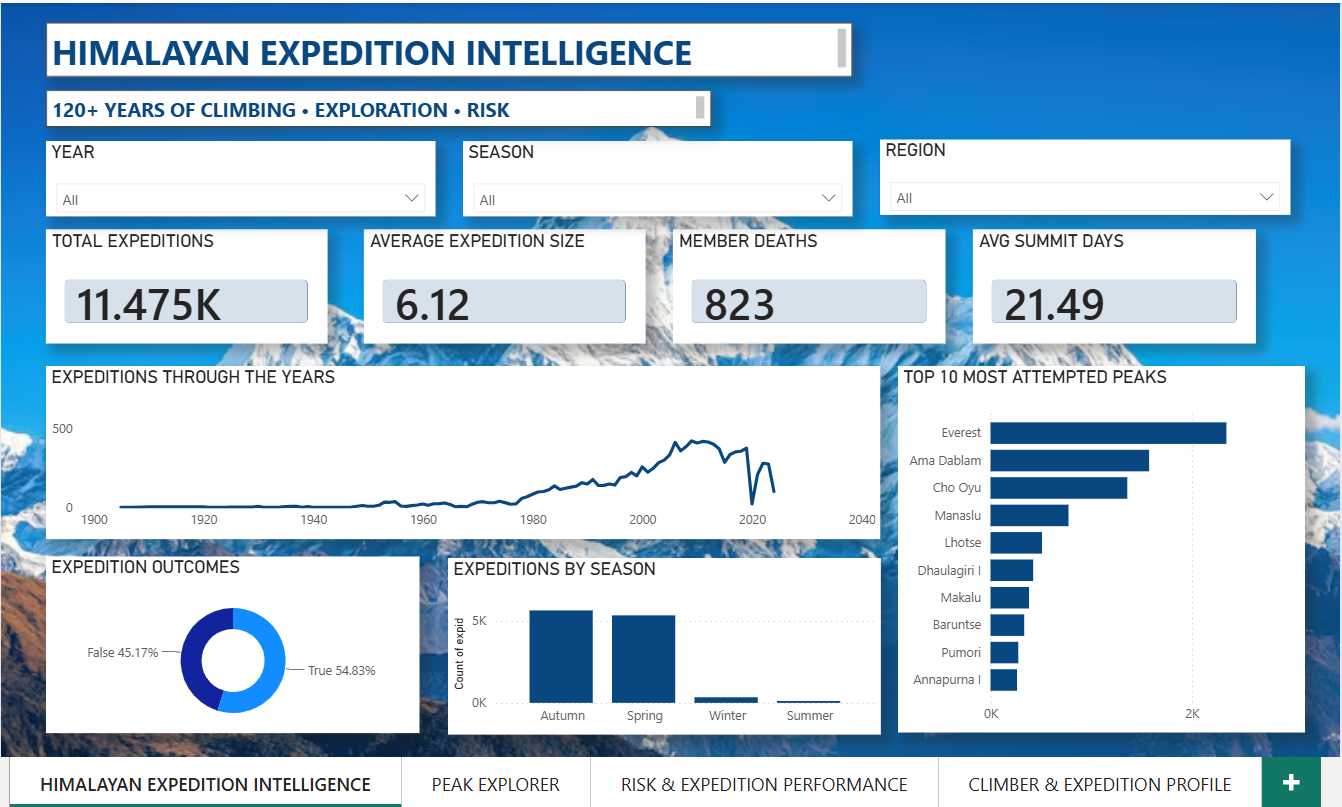

What the dashboard file says about the page in this screenshot:
{"tool":"powerbi","page":{"name":"HIMALAYAN EXPEDITION INTELLIGENCE","canvas":[1280,720],"ordinal":0},"visuals":[{"type":"cardVisual","title":"TOTAL EXPEDITIONS","fields":{"Data":["Count(exped.expid)"]},"box":[43.3,216.7,268.3,108.3],"z":0},{"type":"cardVisual","title":"AVERAGE EXPEDITION SIZE","fields":{"Data":["Avg(exped.totmembers)"]},"box":[346.7,216.7,268.3,108.3],"z":1000},{"type":"cardVisual","title":"MEMBER DEATHS","fields":{"Data":["Sum(exped.mdeaths)"]},"box":[641.7,216.7,260,108.3],"z":2000},{"type":"cardVisual","title":"AVG SUMMIT DAYS","fields":{"Data":["Avg(exped.smtdays)"]},"box":[928.3,216.7,270,108.3],"z":3000},{"type":"lineChart","title":"EXPEDITIONS THROUGH THE YEARS","fields":{"Category":["exped.year"],"Y":["Count(exped.expid)"]},"box":[43.3,346.7,796.7,165],"z":4000},{"type":"clusteredColumnChart","title":"EXPEDITIONS BY SEASON","fields":{"Category":["exped.season"],"Y":["CountNonNull(exped.expid)"]},"box":[426.7,530,413.3,168.3],"z":5000},{"type":"donutChart","title":"EXPEDITION OUTCOMES","fields":{"Category":["exped.success1"],"Y":["Count(exped.expid)"]},"box":[43.3,528.3,356.7,168.3],"z":6000},{"type":"clusteredBarChart","title":"TOP 10 MOST ATTEMPTED PEAKS","fields":{"Category":["peaks.pkname"],"Y":["Count(exped.expid)"]},"box":[856.7,346.7,388.3,350],"z":7000},{"type":"slicer","title":"SEASON","fields":{"Values":["exped.season"]},"box":[441.7,131.7,371.7,71.7],"z":8000},{"type":"slicer","title":"REGION","fields":{"Values":["peaks.region"]},"box":[840,130,391.7,71.7],"z":9000},{"type":"textbox","box":[43.3,18.3,770,51.7],"z":10000},{"type":"textbox","box":[43.3,83.3,635,35],"z":11000},{"type":"slicer","title":"YEAR","fields":{"Values":["exped.year"]},"box":[43.3,131.7,371.7,71.7],"z":12000}]}

Visuals, with their boxes on the page's 1280x720 design canvas (x1, y1, x2, y2). These are canvas units, not pixel positions in the 1342x807 screenshot, which may show the page scaled, cropped or inside an application window:
"TOTAL EXPEDITIONS" cardVisual: select_region(43, 217, 312, 325)
"AVERAGE EXPEDITION SIZE" cardVisual: select_region(347, 217, 615, 325)
"MEMBER DEATHS" cardVisual: select_region(642, 217, 902, 325)
"AVG SUMMIT DAYS" cardVisual: select_region(928, 217, 1198, 325)
"EXPEDITIONS THROUGH THE YEARS" lineChart: select_region(43, 347, 840, 512)
"EXPEDITIONS BY SEASON" clusteredColumnChart: select_region(427, 530, 840, 698)
"EXPEDITION OUTCOMES" donutChart: select_region(43, 528, 400, 697)
"TOP 10 MOST ATTEMPTED PEAKS" clusteredBarChart: select_region(857, 347, 1245, 697)
"SEASON" slicer: select_region(442, 132, 813, 203)
"REGION" slicer: select_region(840, 130, 1232, 202)
textbox: select_region(43, 18, 813, 70)
textbox: select_region(43, 83, 678, 118)
"YEAR" slicer: select_region(43, 132, 415, 203)
